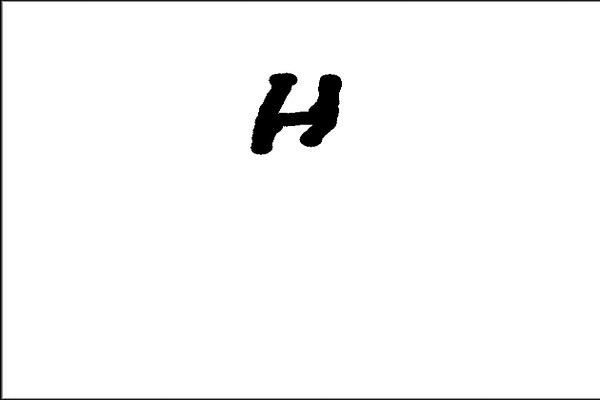H: (243, 65, 347, 155)
